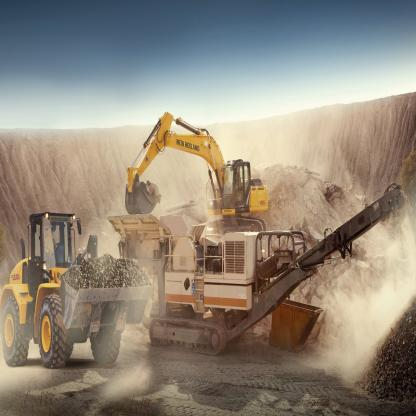bull_dozer/loader/grader: (2, 198, 149, 374)
excavator: (114, 96, 270, 243)
